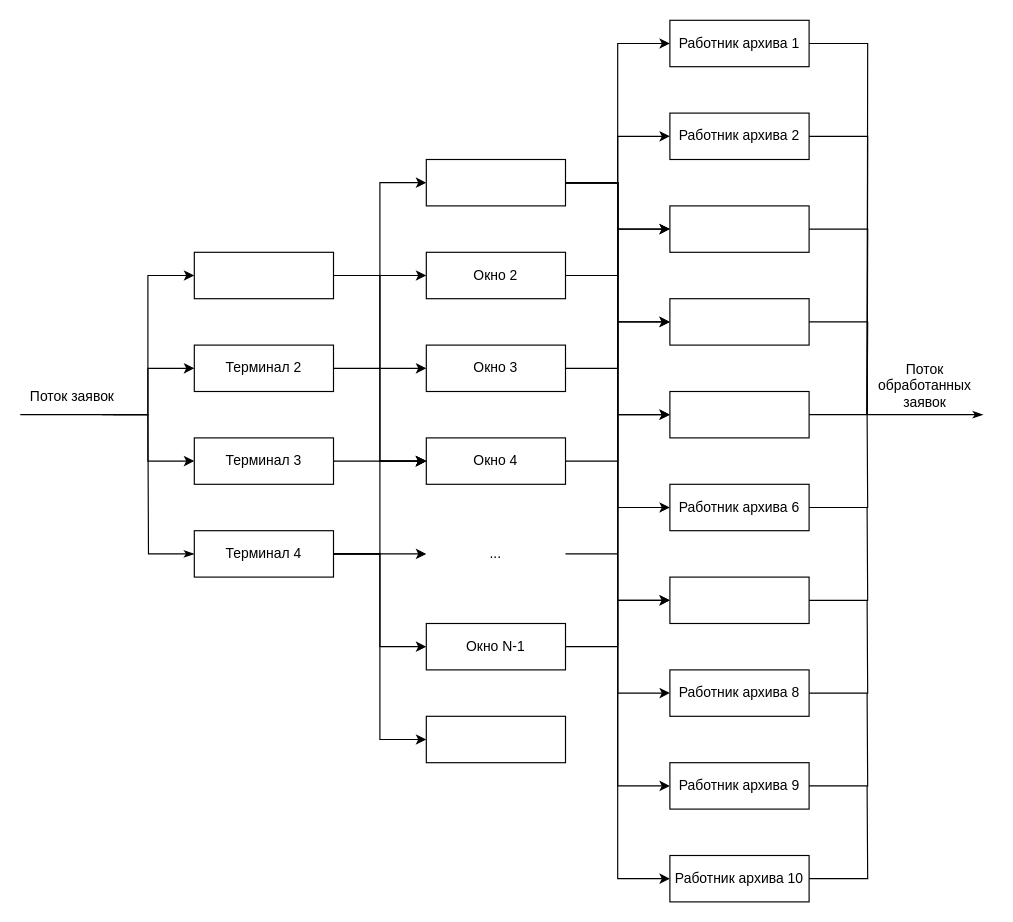
This 1013x922 diagram has some shape labels left out. The shapes that lost their labels are listed below. From the top down, each one's centre as x and y in pixels, then its label:
point (495, 182): Окно 1
point (739, 228): Работник архива 3
point (263, 275): Терминал 1
point (739, 321): Работник архива 4
point (739, 414): Работник архива 5
point (739, 600): Работник архива 7
point (495, 739): Окно N
